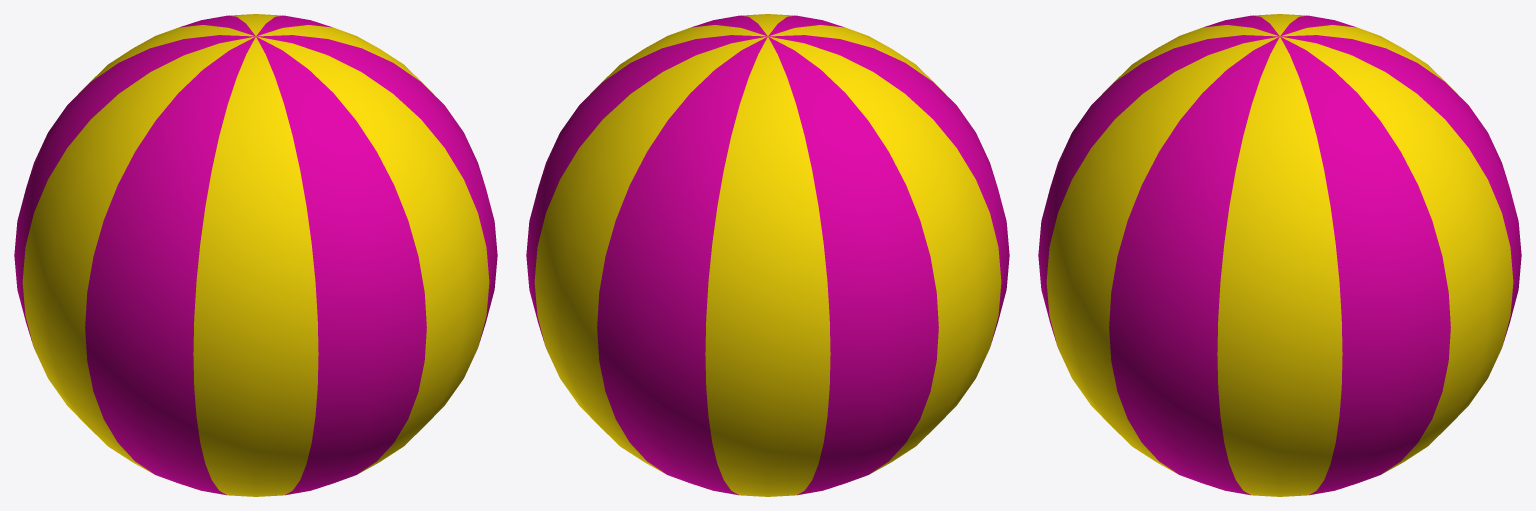
File: COLOR FULL BALL 1.fbx
The picture shows the model from 3 angles, left to right: view 1: azimuth 30°, elevation 25°; view 2: azimuth 150°, elevation 25°; view 3: azimuth 270°, elevation 25°; orthographic projection.
Parts seen in each view (by area): view 1: color_full1; view 2: color_full1; view 3: color_full1.
Part boxes in pixels (x1,y1,x2,y2): color_full1: [14, 14, 497, 496]; color_full1: [526, 14, 1009, 496]; color_full1: [1038, 14, 1521, 496].
Size of the model in its own units: 144 by 144 by 144.
